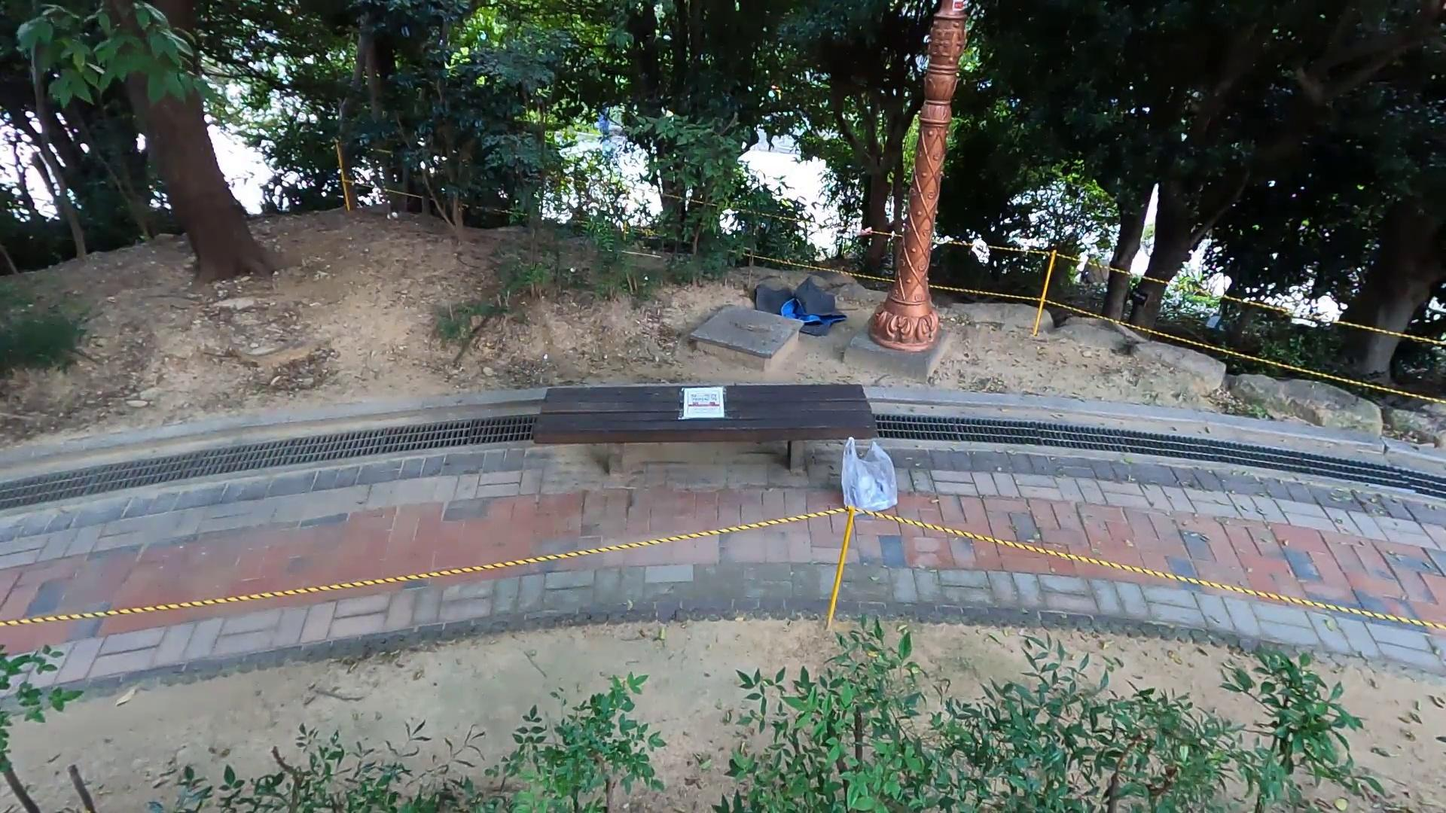trash: (837, 434, 904, 520)
